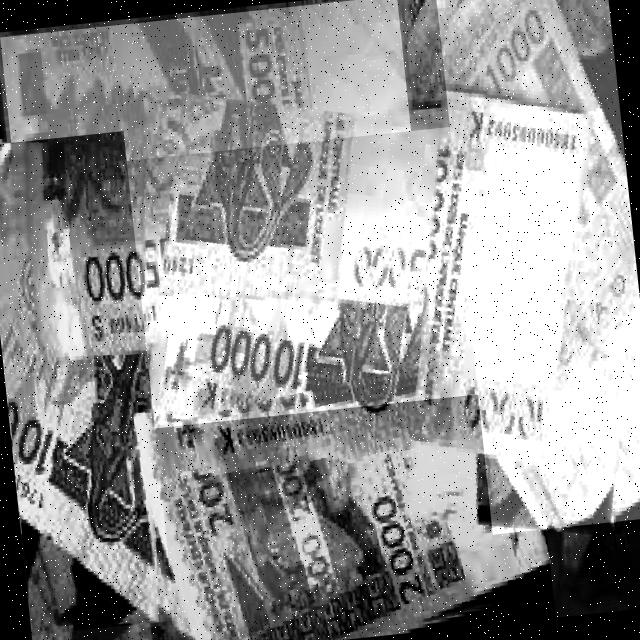junni: (0, 0, 427, 352)
niaar junni: (144, 125, 595, 494), (0, 141, 158, 621)
niaar teemeer: (445, 0, 635, 529)
nient teemeer: (131, 428, 549, 640)
